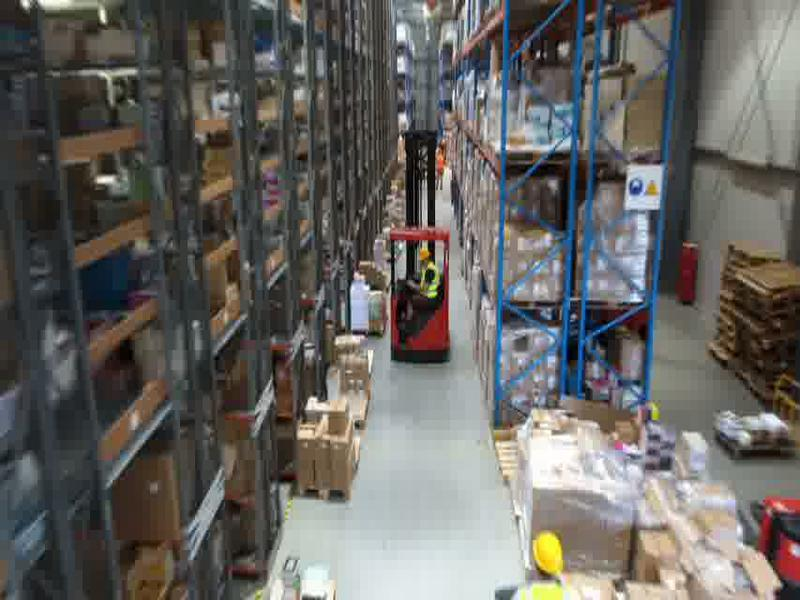hard-hat: (529, 530, 566, 576), (418, 246, 433, 262)
